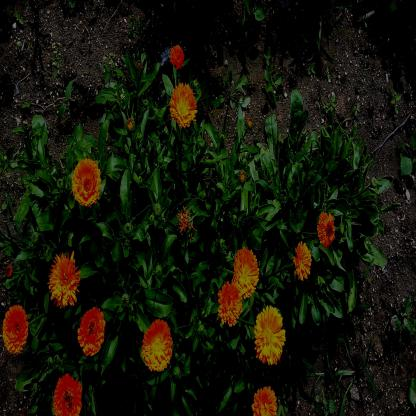marigold: (48, 253, 81, 304), (143, 320, 173, 370), (257, 309, 283, 364), (170, 82, 196, 128), (74, 158, 100, 204), (54, 374, 82, 416), (79, 308, 104, 354), (3, 306, 28, 351), (233, 248, 258, 290), (218, 282, 241, 324), (254, 387, 277, 416), (296, 244, 312, 278), (318, 213, 335, 244)
